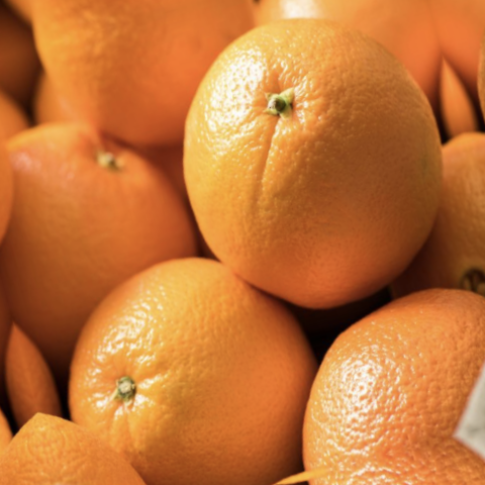orange: (129, 0, 485, 352), (14, 200, 356, 485)
